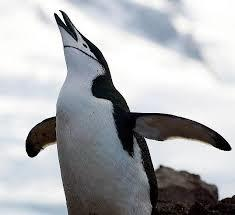chinstrap: (25, 7, 181, 215)
